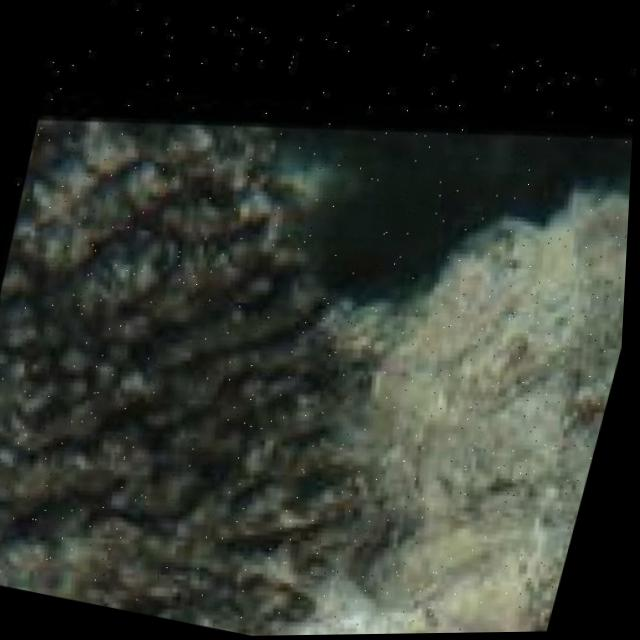Dead Coral: (0, 23, 452, 640)
